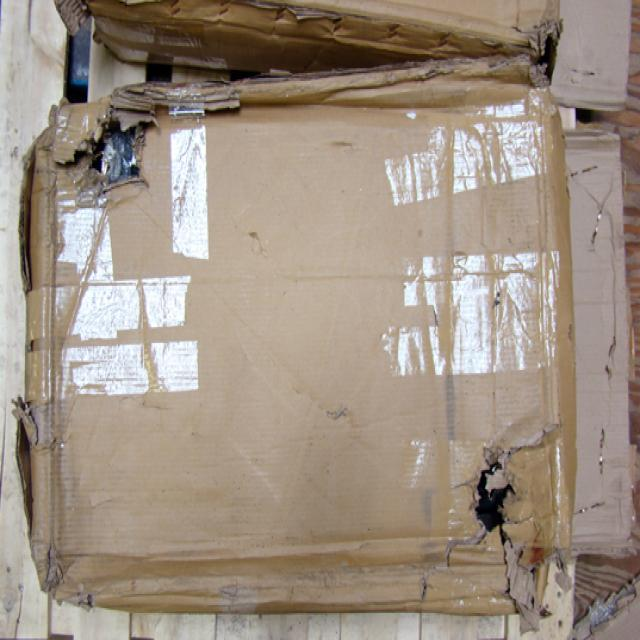hole: (464, 438, 546, 568), (69, 115, 163, 202)
